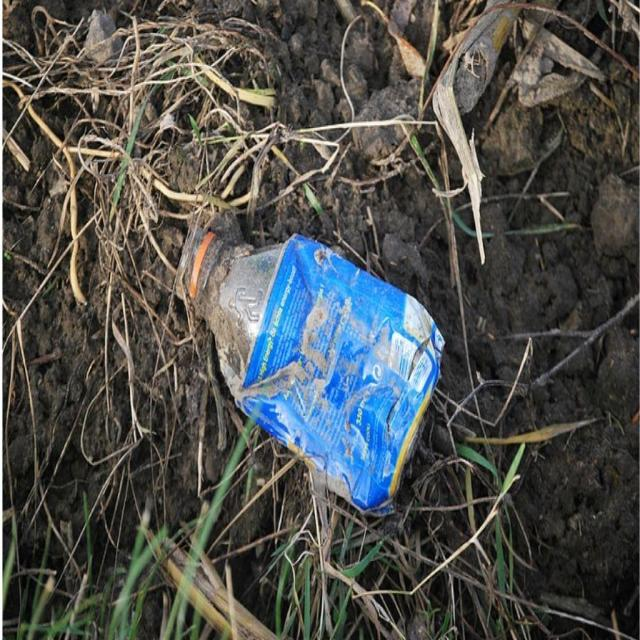bottle: (173, 185, 455, 540)
